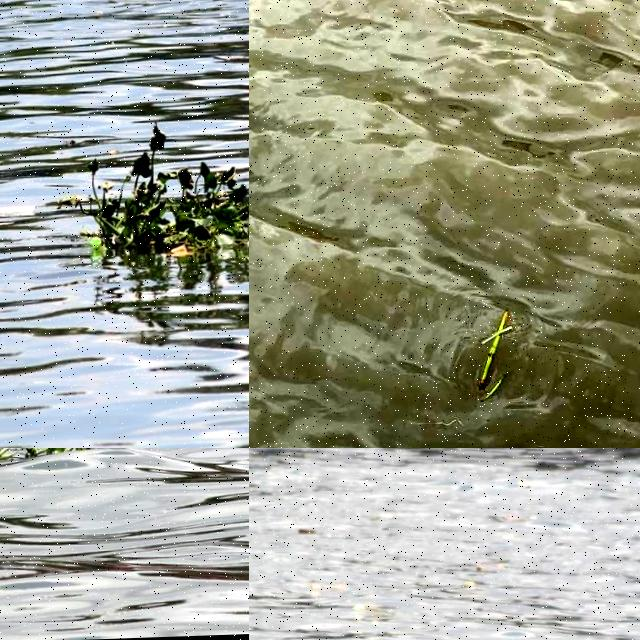water-hyacinth: (72, 124, 250, 276), (1, 449, 94, 466)
